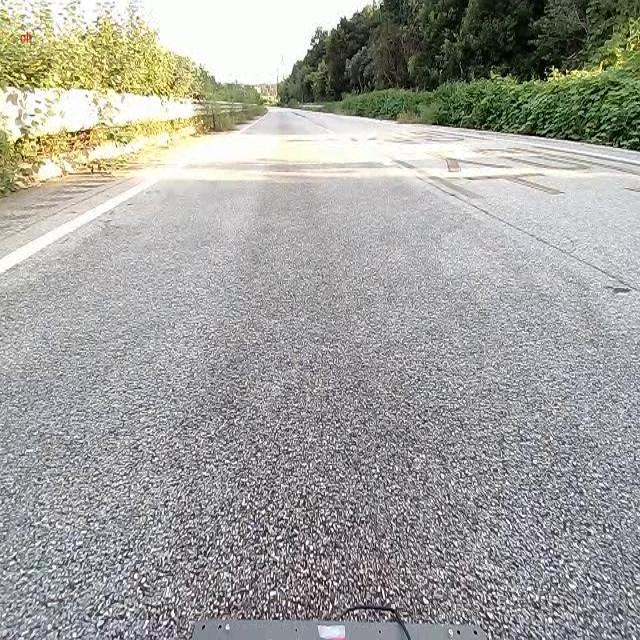Lane: (2, 158, 172, 282), (0, 173, 167, 275)
